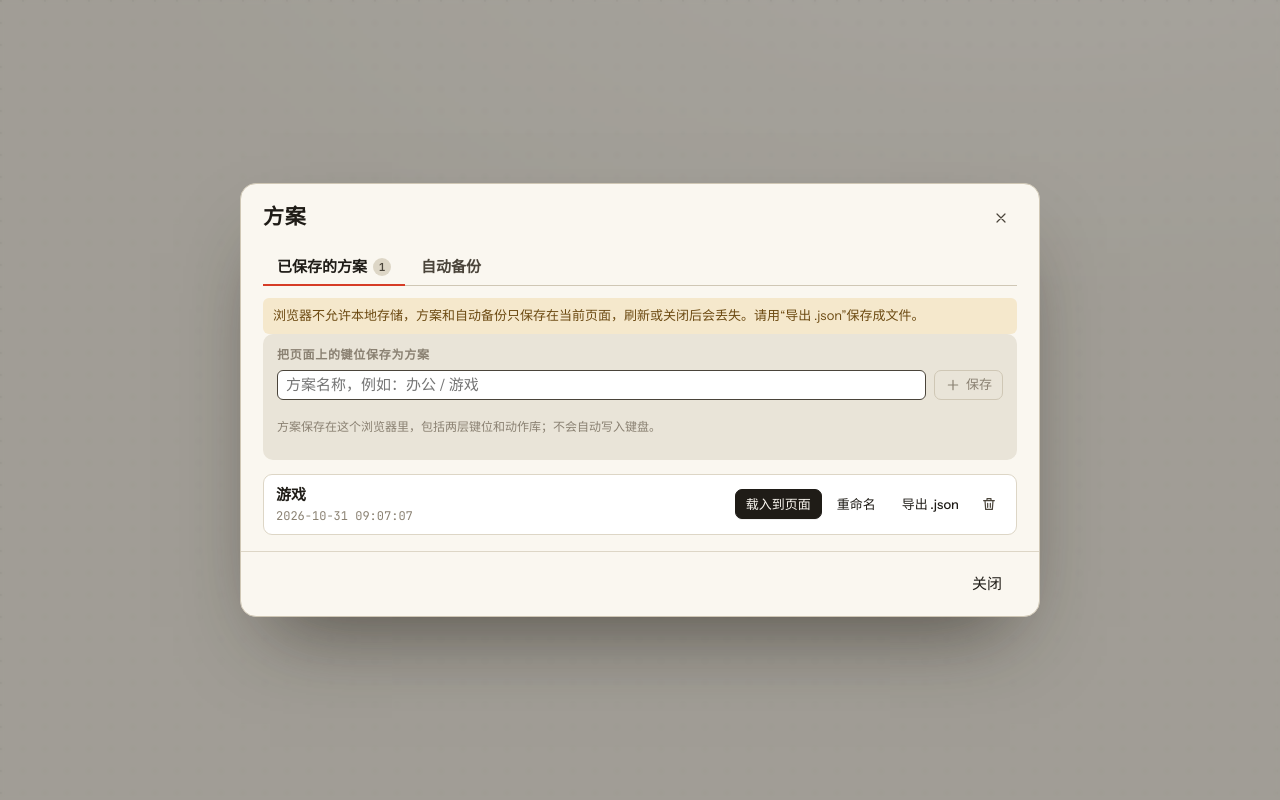
Test: ProfilesDialog › renames, exports and deletes (with confirmation) a profile
Later steps or results of the test are not shown.
Click the button with aria-label "重命名方案“游戏”": {"x": 856, "y": 504} [826,489,887,519]
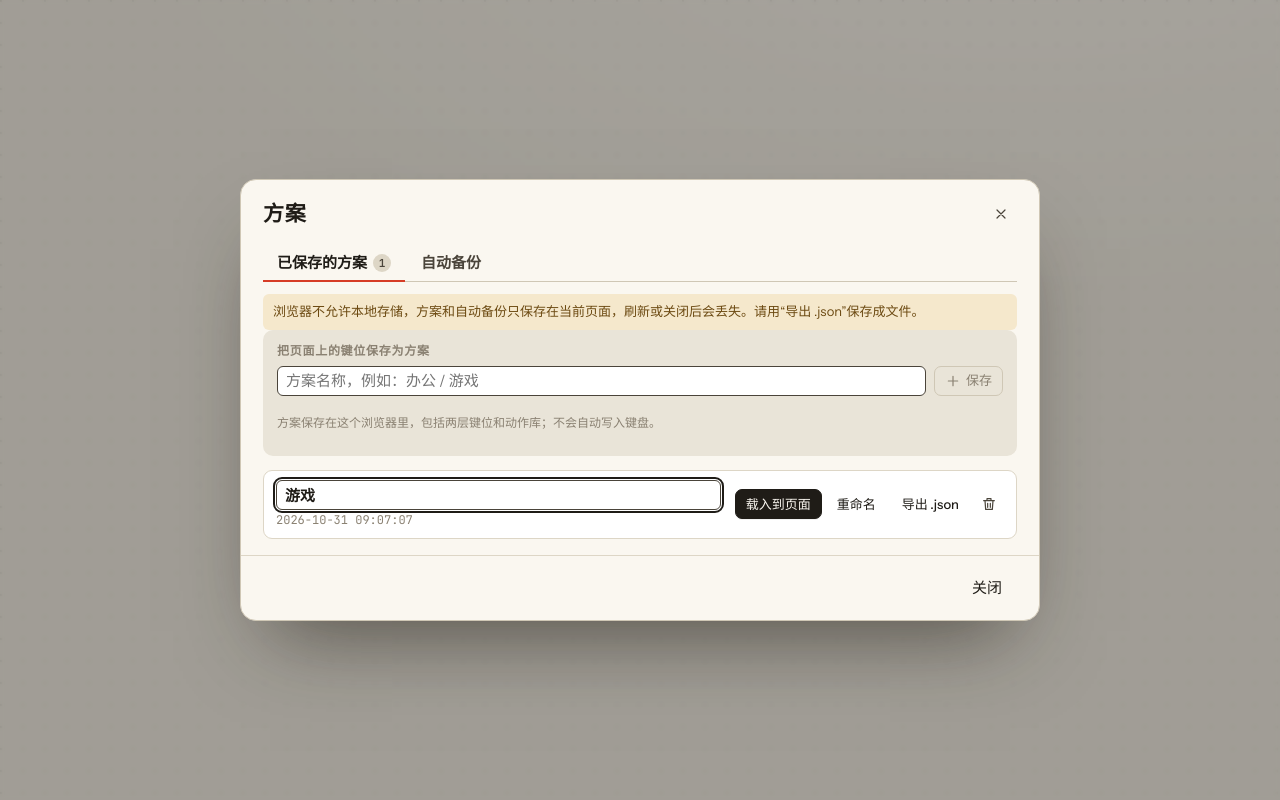
Replace the text in the field named "方案“游戏”的新名称" with "射击游戏": {"x": 498, "y": 495} [276,480,721,510]
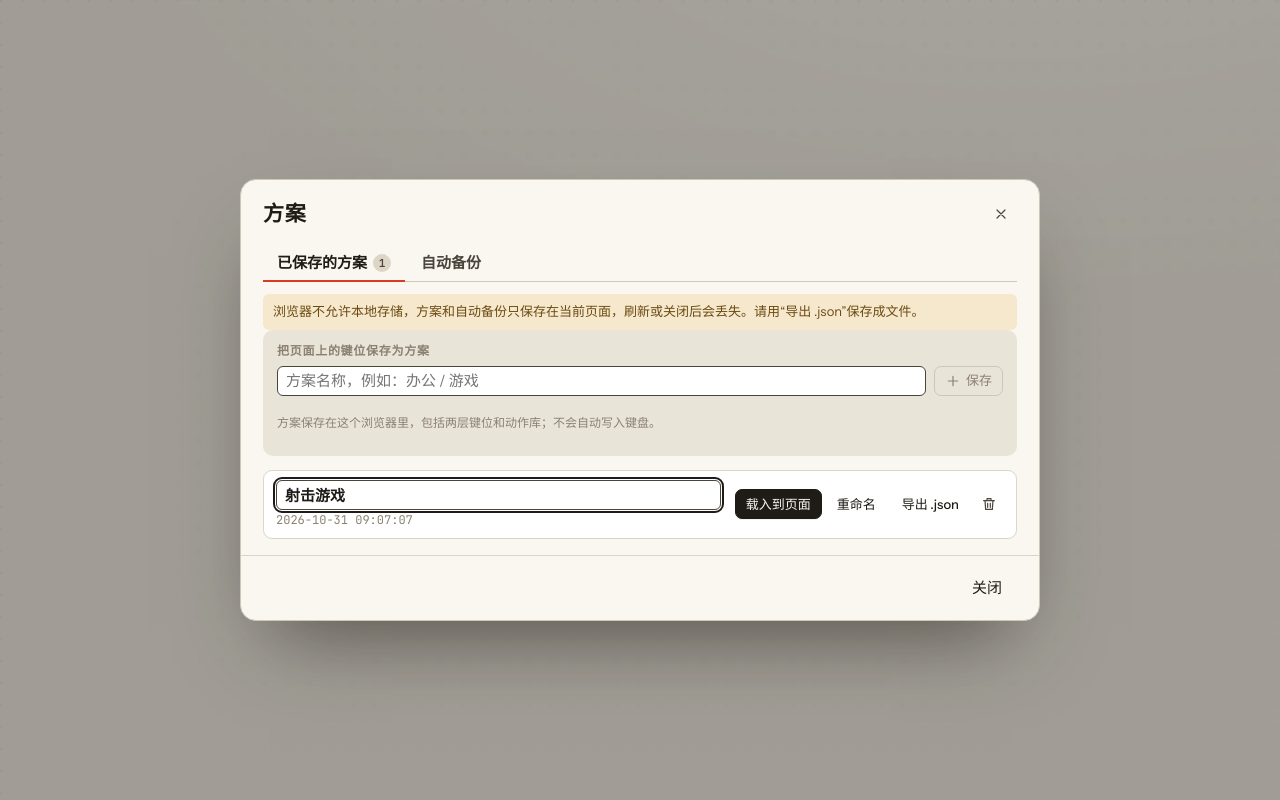
Press Enter in the field named "方案“游戏”的新名称", box [276,480,721,510]
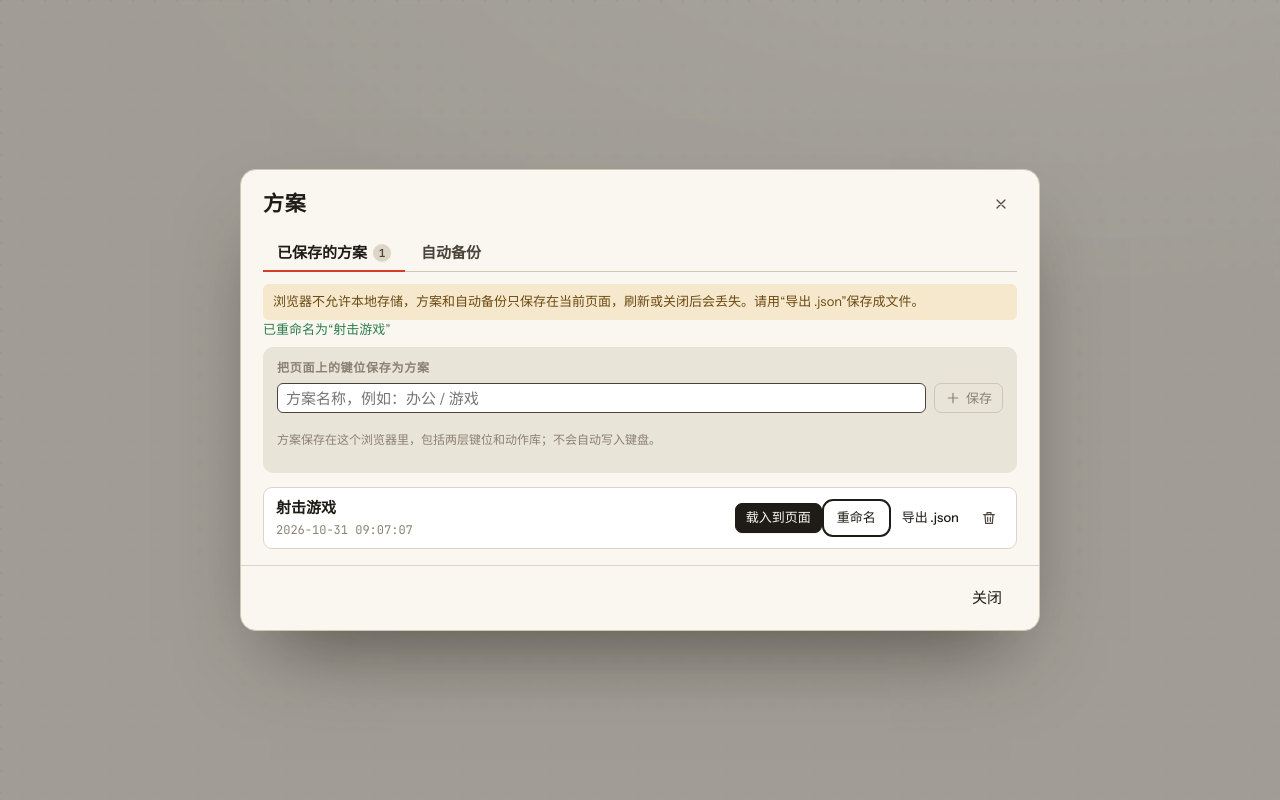
Now the text "射击游戏" is shown, box [276,498,336,517]
